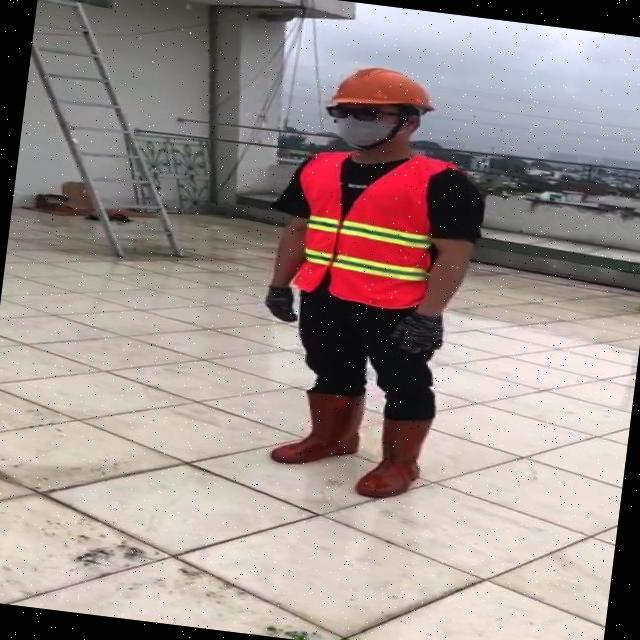boots: (270, 383, 368, 472), (352, 405, 429, 506)
helmet: (321, 59, 443, 117)
vest: (284, 142, 464, 316)
